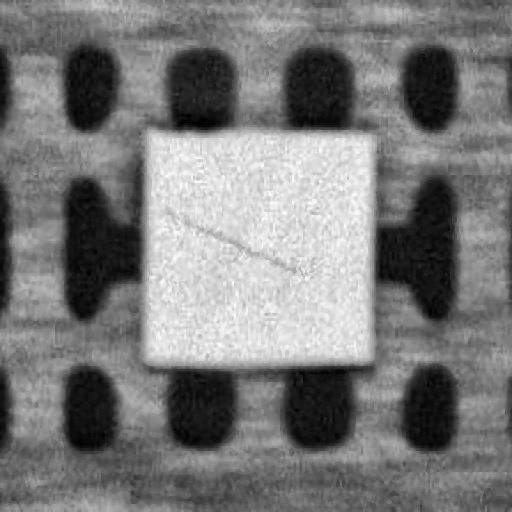DIE_CRACK: (236, 138, 440, 179)
